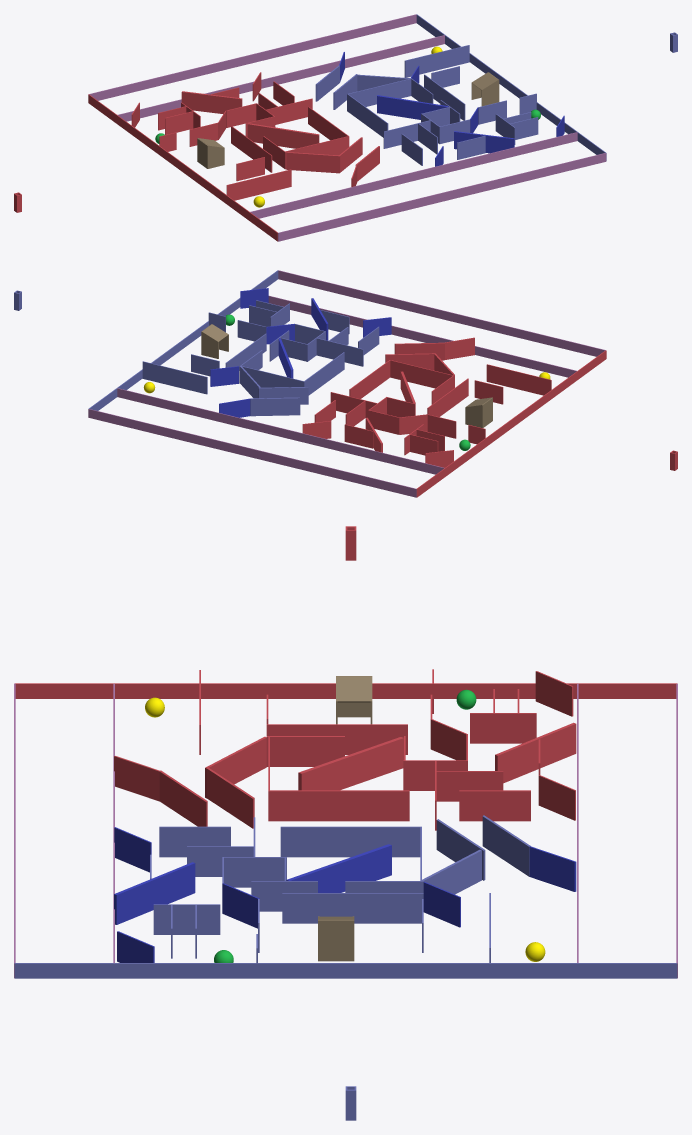
The picture shows the model from 3 angles, top to bottom: view 1: azimuth 30°, elevation 25°; view 2: azimuth 150°, elevation 25°; view 3: azimuth 270°, elevation 25°; orthographic projection. The views are drawn at different scales.
Bounding box in the file's own units: 403 × 13.63 × 200.
